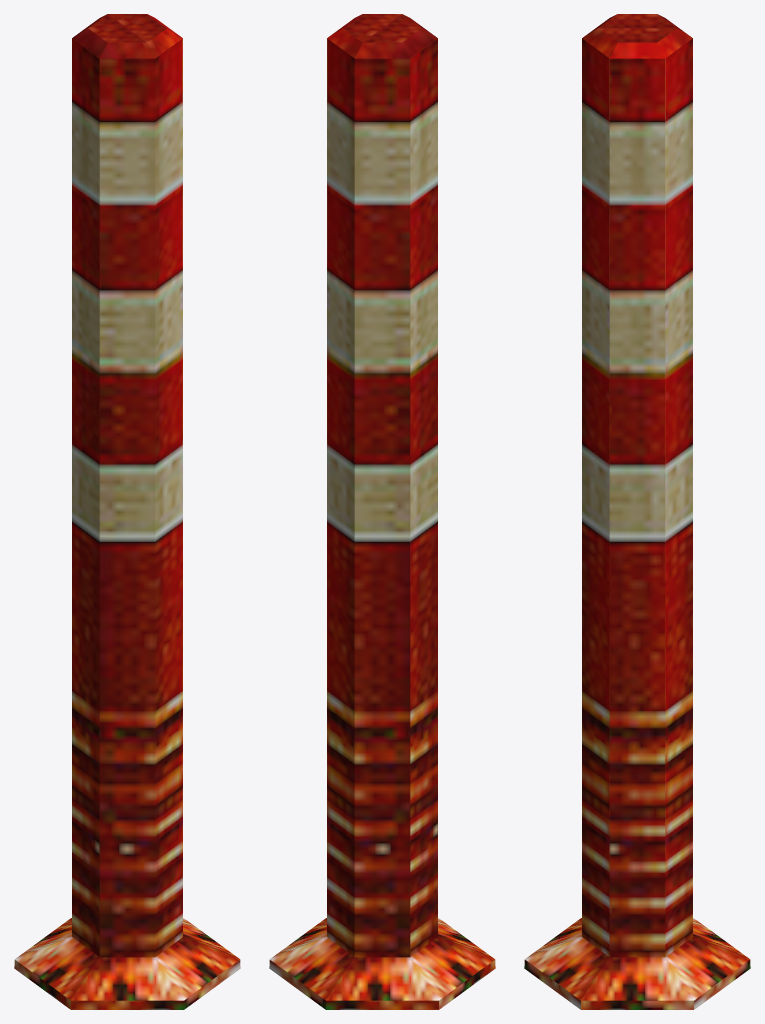
File: Palo1.fbx
3 renders of one model, left to right at view 1: azimuth 30°, elevation 25°; view 2: azimuth 150°, elevation 25°; view 3: azimuth 270°, elevation 25°, orthographic.
Visible parts, largest first — view 1: simple_bollard; view 2: simple_bollard; view 3: simple_bollard.
Part boxes in pixels (bbox=[...]): simple_bollard: bbox=[14, 14, 240, 1009]; simple_bollard: bbox=[269, 14, 495, 1009]; simple_bollard: bbox=[524, 14, 750, 1009].
Bounding box in the file's own units: 23.26 × 123 × 26.85.
